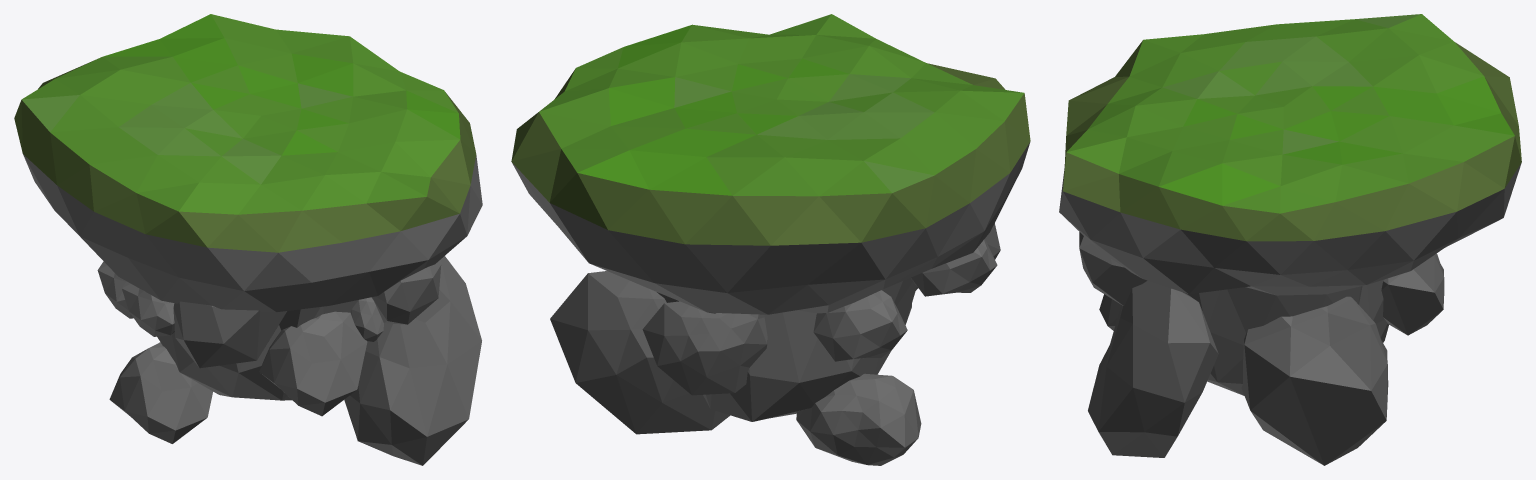
The picture shows the model from 3 angles, left to right: view 1: azimuth 30°, elevation 25°; view 2: azimuth 150°, elevation 25°; view 3: azimuth 270°, elevation 25°; orthographic projection. The views are drawn at different scales.
Parts seen in each view (by area): view 1: Icosphere.044; view 2: Icosphere.044; view 3: Icosphere.044.
Part boxes in pixels (bbox=[...]): Icosphere.044: bbox=[14, 14, 482, 465]; Icosphere.044: bbox=[511, 14, 1030, 465]; Icosphere.044: bbox=[1059, 14, 1521, 465].
Bounding box in the file's own units: 1.49 × 1.21 × 1.56.
